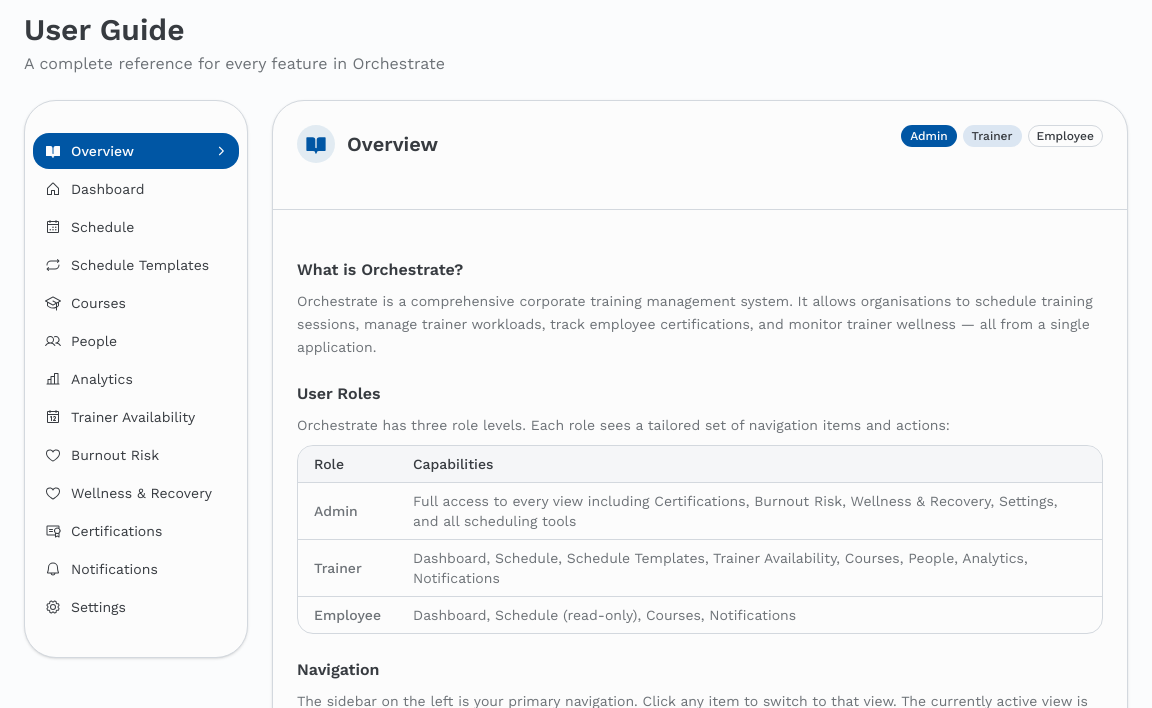
Test: UserGuide › renders Courses section content
Click the button "Courses": (136, 303) [33,285,239,321]
(page scrolled)
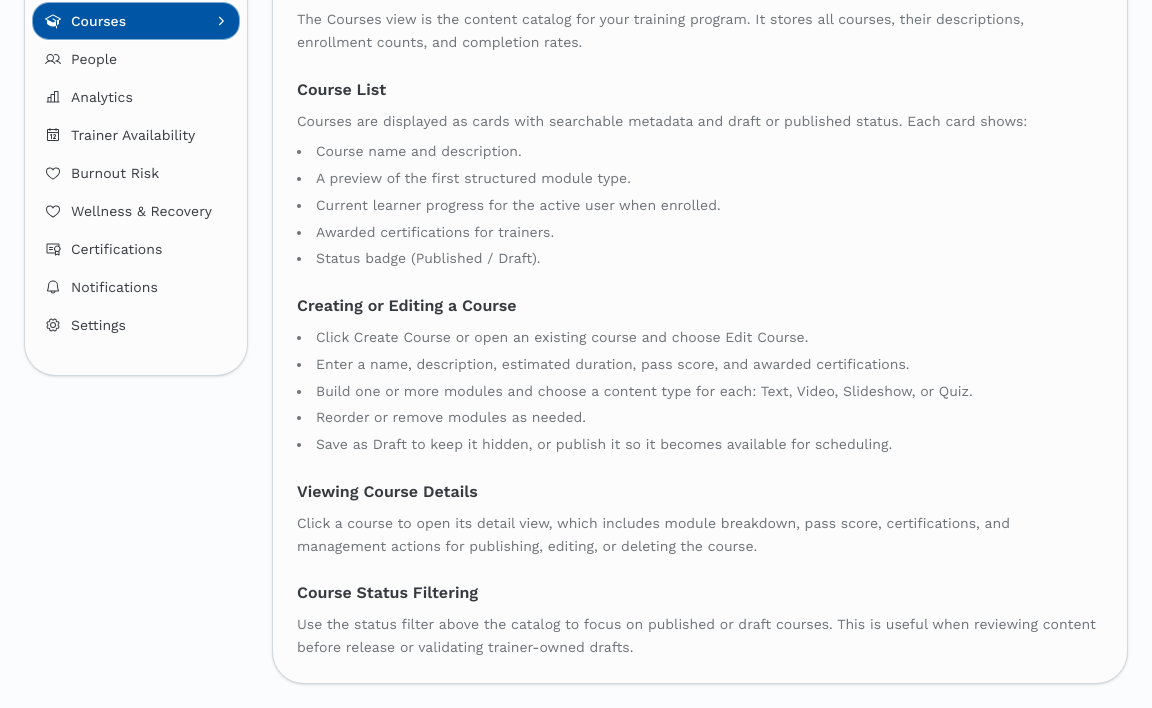
Now the heading "Course List" is shown, box [297,80,386,98]
Now the heading "Creating or Editing a Course" is shown, box [297,296,517,315]
Now the heading "Viewing Course Details" is shown, box [297,482,478,501]
